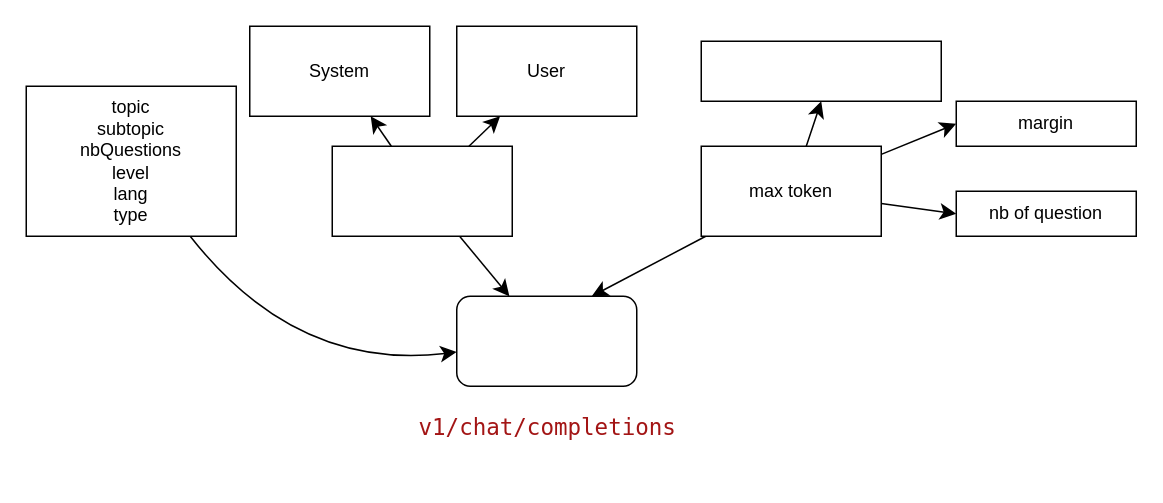
Image size: 1163x503. Some labels were removed from this diagram. The shapes that lost their labels are listed below. From the top down, each one's centre as x and y in pixels, then its label:
pixel 820 70: estimateTokenperQuestion
pixel 421 190: Prompt
pixel 546 340: API OPEN AI
